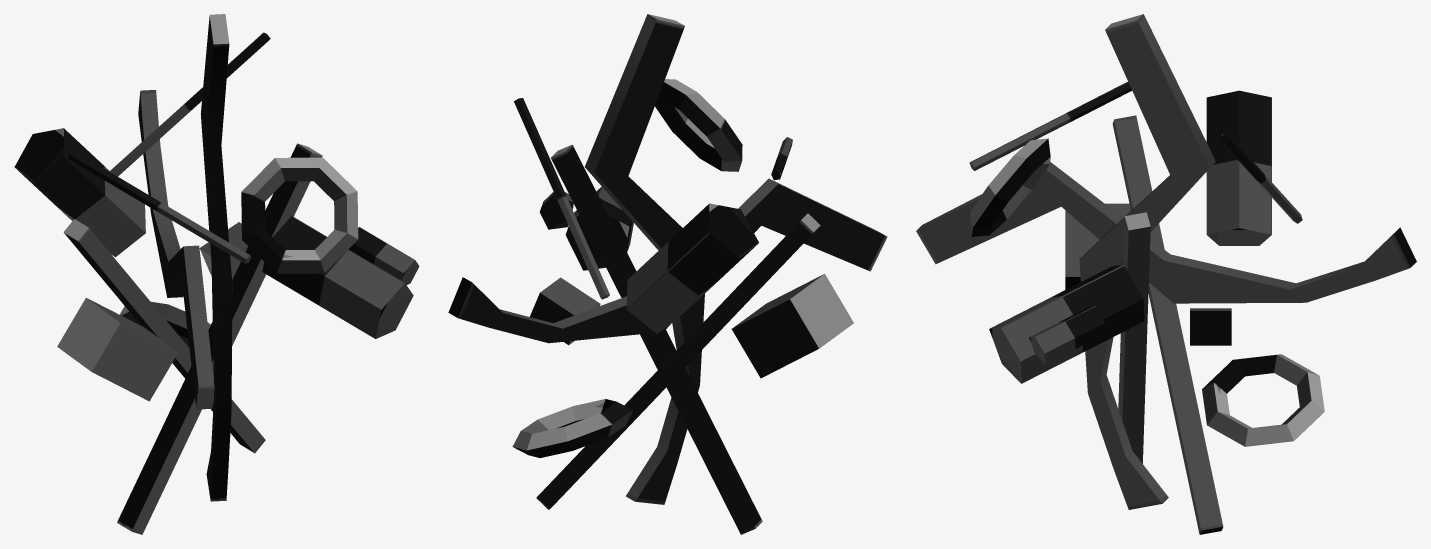
File: wreck2.dae
The picture shows the model from 3 angles, left to right: view 1: azimuth 30°, elevation 25°; view 2: azimuth 150°, elevation 25°; view 3: azimuth 270°, elevation 25°; orthographic projection.
Visible parts, largest first — view 1: polySurface1; view 2: polySurface1; view 3: polySurface1.
Boxes of the visible parts, x1,y1,x2,y2 form: polySurface1: (14, 14, 419, 534); polySurface1: (448, 14, 887, 534); polySurface1: (916, 14, 1416, 534).
Bounding box in the file's own units: 11.13 × 16.49 × 14.94.
1 material, 1 textured.
